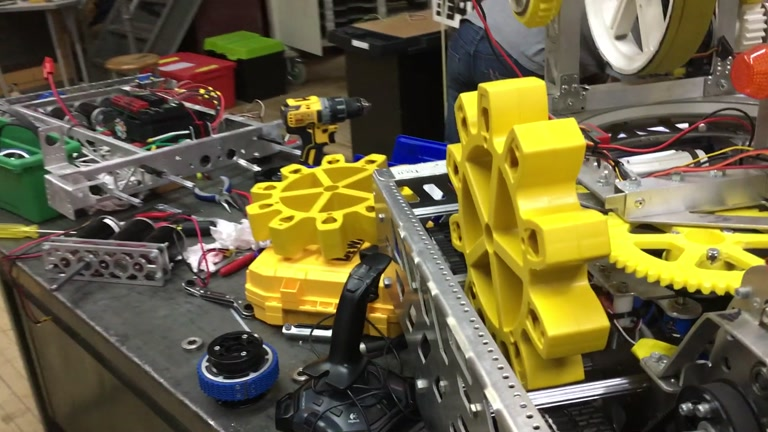gear: (445, 77, 610, 392), (246, 152, 418, 261)
